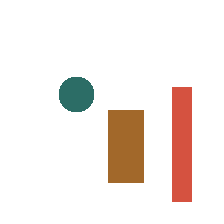circle: (59, 77, 93, 111)
rectangle: (108, 110, 143, 182), (172, 87, 191, 201)
